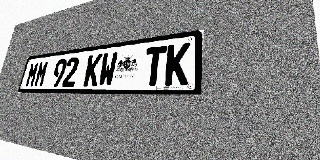2: (62, 56, 80, 87)
9: (51, 58, 68, 87)
K: (164, 42, 191, 85), (83, 54, 103, 87)
M: (33, 60, 49, 87), (25, 62, 40, 87)
T: (142, 45, 167, 86)
W: (97, 52, 118, 86)
